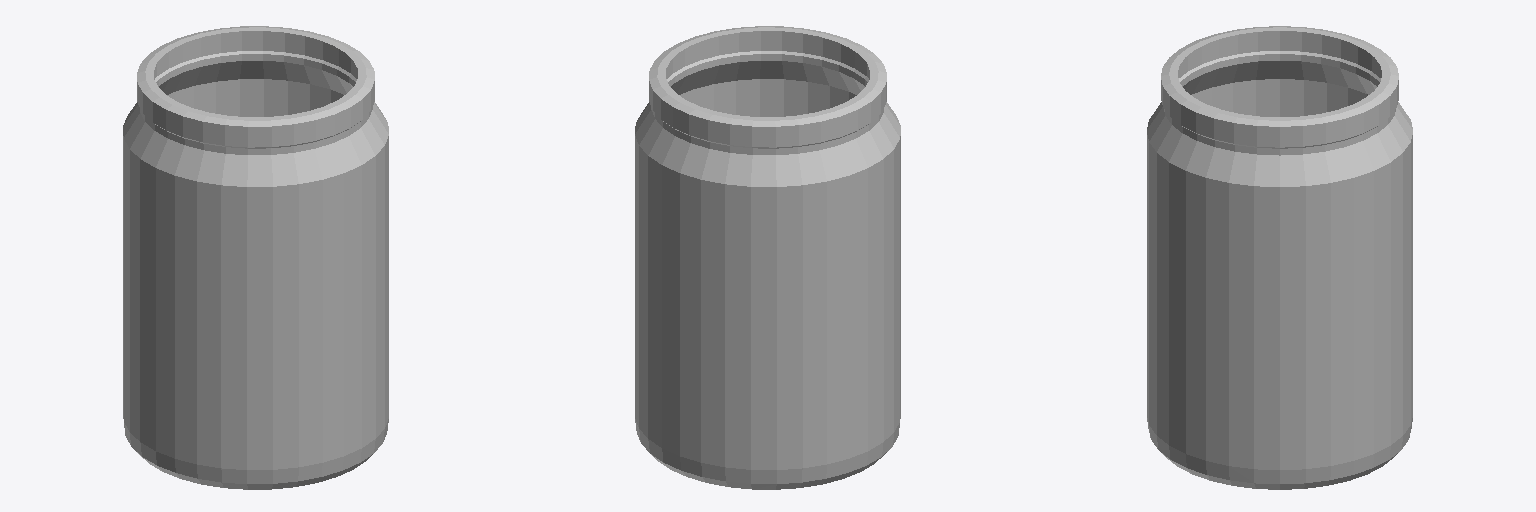
The model's file is cup.obj.
3 renders of one model, left to right at view 1: azimuth 30°, elevation 25°; view 2: azimuth 150°, elevation 25°; view 3: azimuth 270°, elevation 25°, orthographic.
Visible parts, largest first — view 1: Cylinder; view 2: Cylinder; view 3: Cylinder.
Boxes of the visible parts, x1,y1,x2,y2 form: Cylinder: [123, 26, 388, 489]; Cylinder: [635, 26, 900, 489]; Cylinder: [1147, 26, 1412, 489].
Bounding box in the file's own units: 2 × 3.01 × 2.